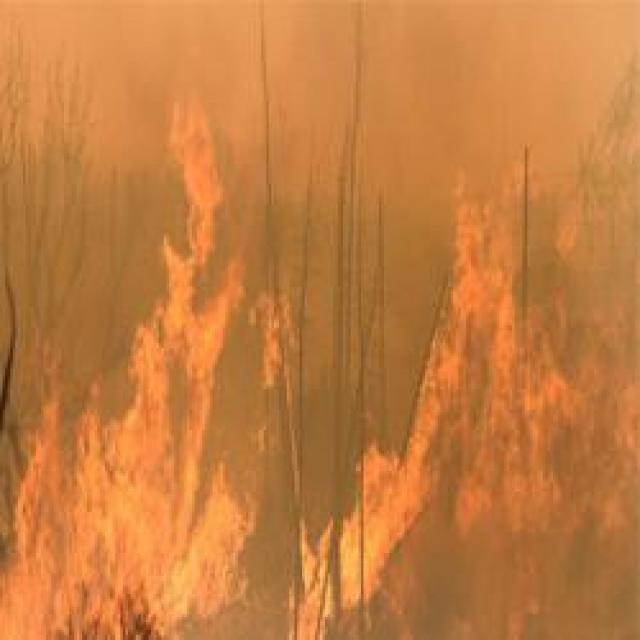fire: (0, 90, 260, 640), (295, 149, 601, 579)
